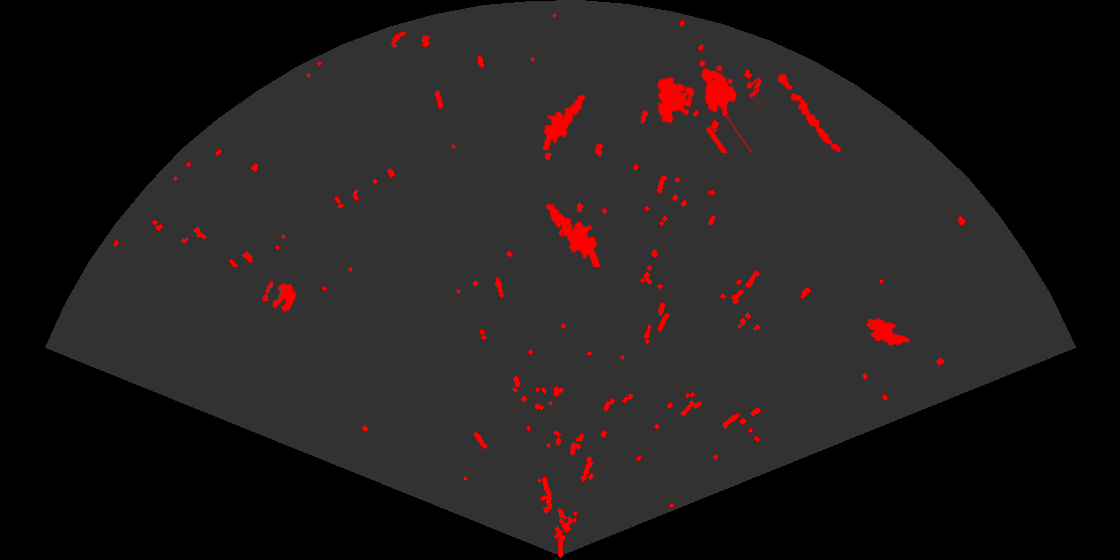AUV: (864, 316, 911, 347)
ball: (261, 280, 298, 314)
cage: (655, 58, 759, 153)
chain: (776, 72, 842, 154)
frogman: (545, 202, 602, 267), (541, 84, 588, 150)
